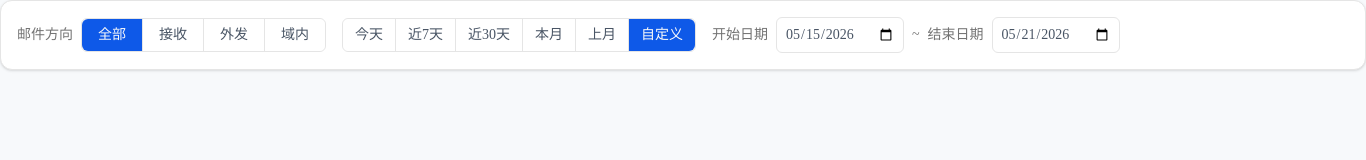
Test: FilterBar custom date range (GT-11979 / GT-11930) › does NOT propagate a range over the 366-day cap
This screenshot has width=1366, height=160.
Type "2020-01-01" into the date field labelled "开始日期" at (840, 35), box [776,17,904,53]
Wait 510 ms
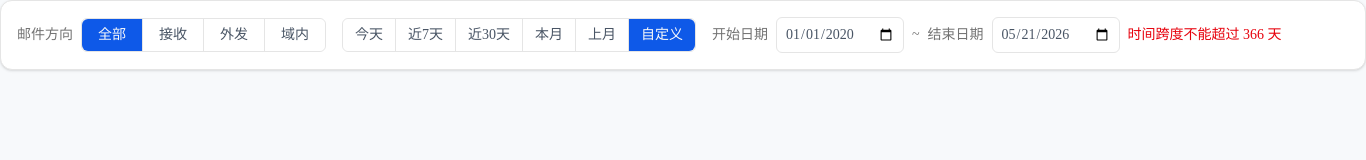
Result: the message reads "时间跨度不能超过 366 天" at [1128,27,1282,42]
